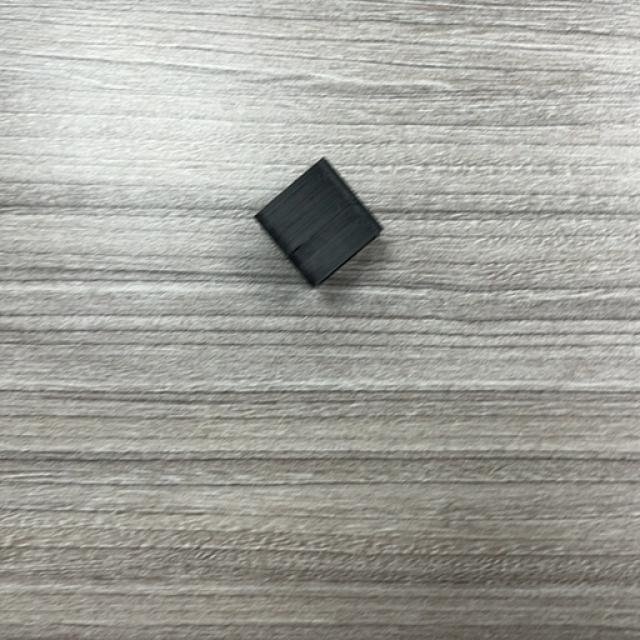Negro: (254, 159, 384, 289)
